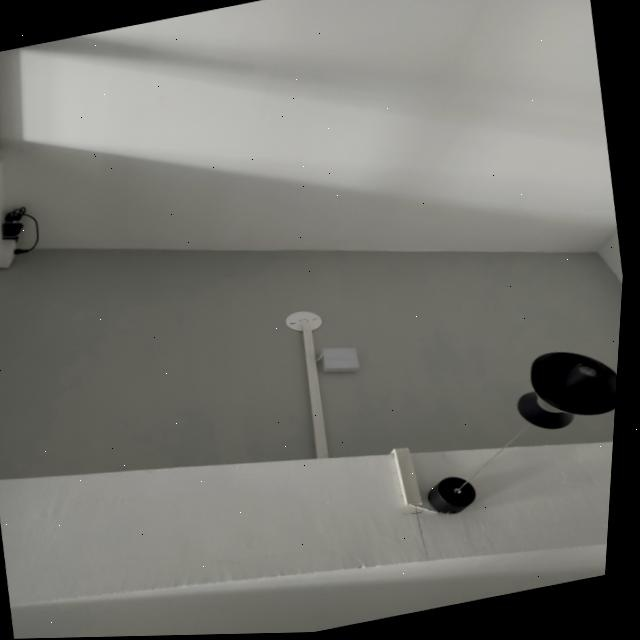fluorescent tube: (405, 319, 625, 548)
